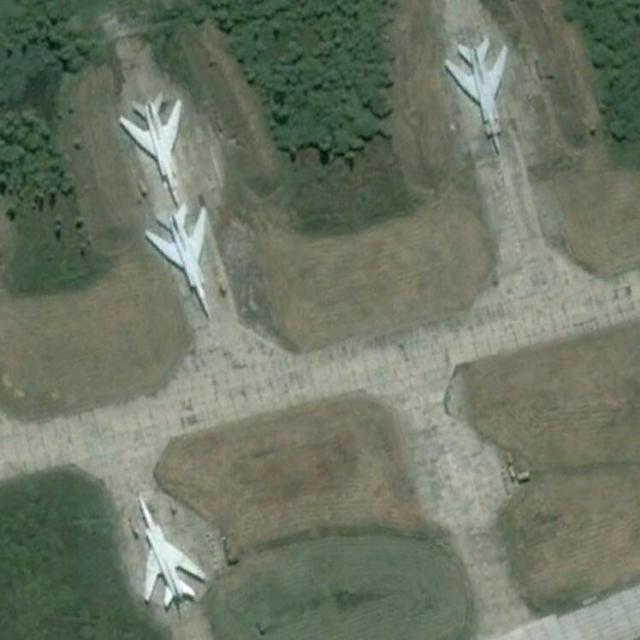fighter jet: (435, 30, 543, 158), (132, 485, 216, 632), (138, 209, 255, 314), (113, 93, 203, 203)
